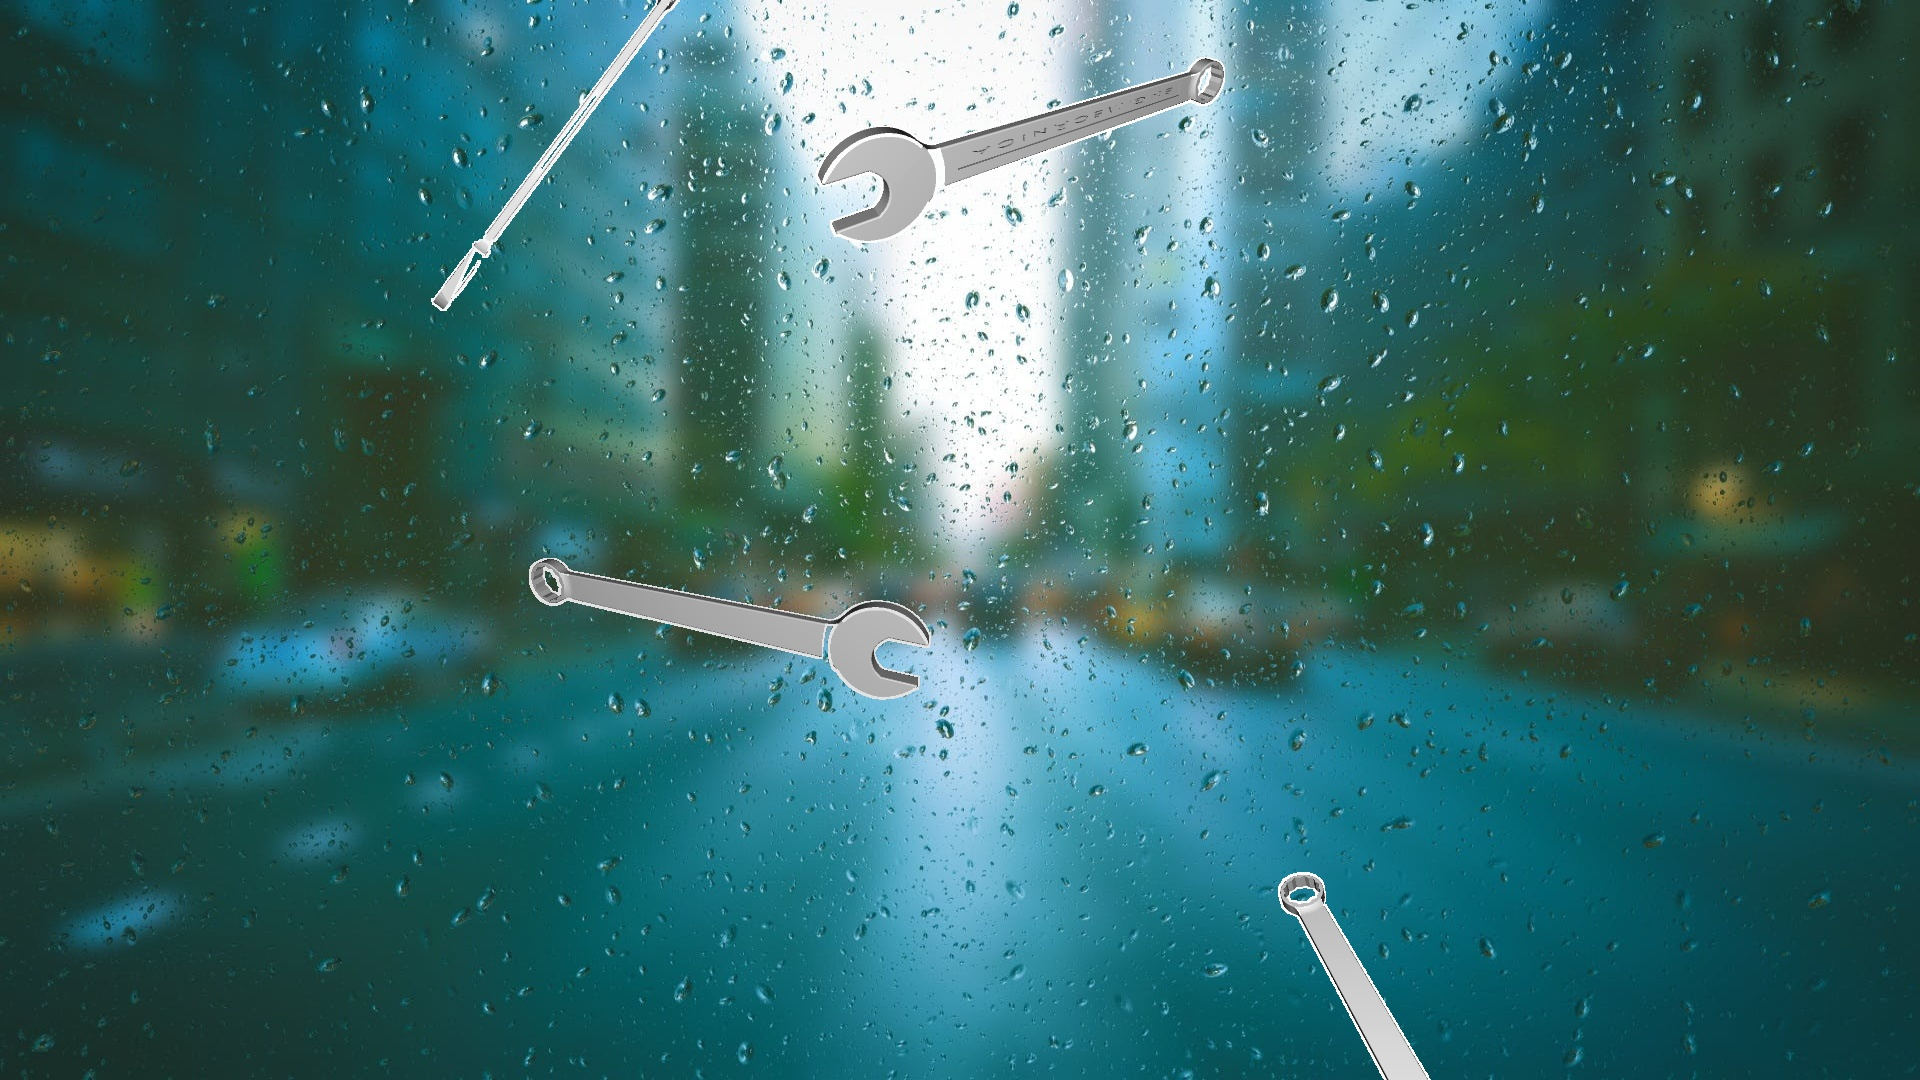Mixed Key: (431, 0, 679, 310), (815, 57, 1224, 243), (529, 558, 930, 699), (1278, 872, 1429, 1079)
